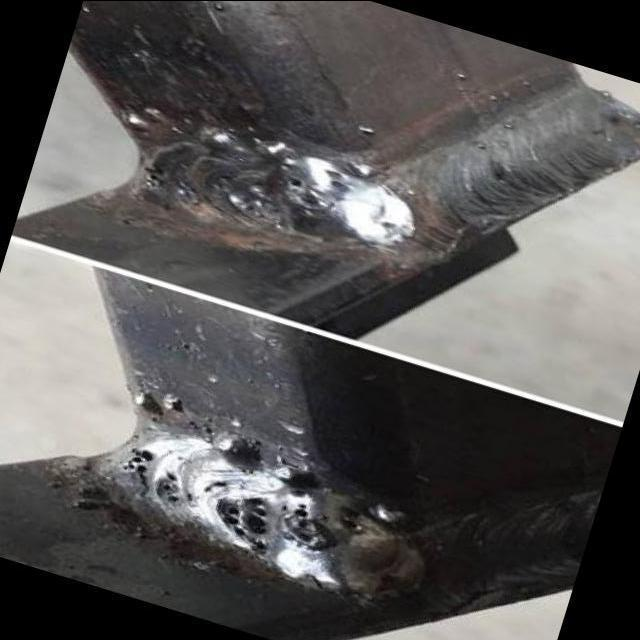defect: (118, 442, 187, 507), (208, 493, 278, 556), (277, 500, 336, 550), (280, 174, 331, 216), (321, 164, 352, 194)
